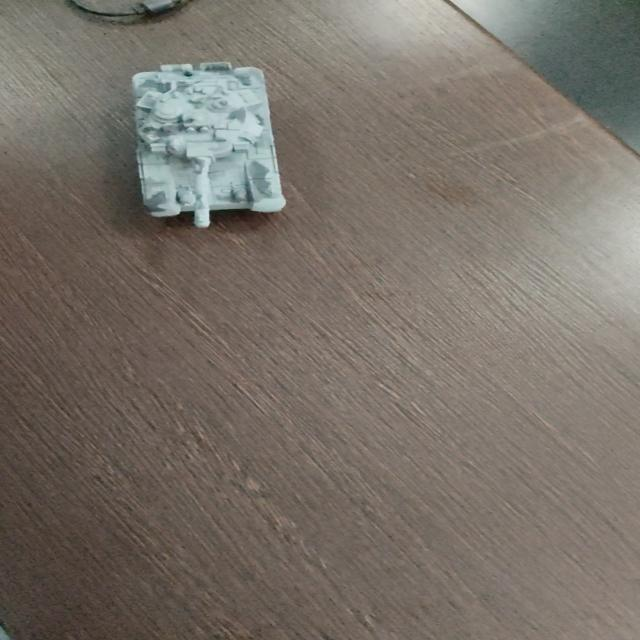tank: (124, 62, 288, 226)
